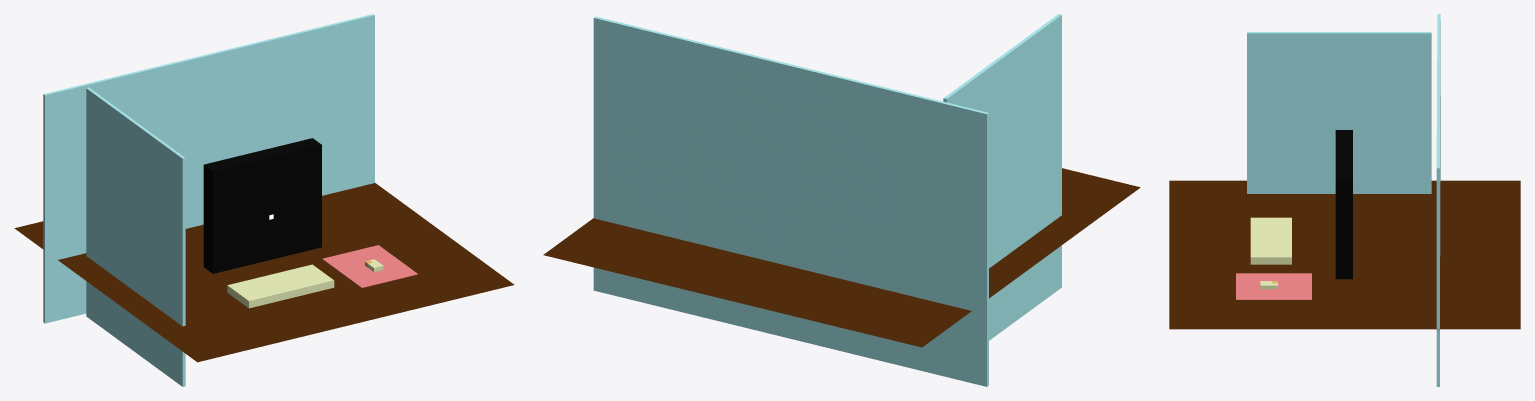
The model's file is desk_scene_8.glb.
3 renders of one model, left to right at view 1: azimuth 30°, elevation 25°; view 2: azimuth 150°, elevation 25°; view 3: azimuth 270°, elevation 25°, orthographic. The views are drawn at different scales.
Parts seen in each view (by area): view 1: Cubical Wall side 2, Desktop, Cubical Wall side, Computer, Keyboard, MousePad; view 2: Cubical Wall side 2, Desktop, Cubical Wall side; view 3: Desktop, Cubical Wall side, Computer, Keyboard, MousePad, Cubical Wall side 2.
Boxes of the visible parts, x1,y1,x2,y2 form: Cubical Wall side 2: (43, 14, 374, 323); Desktop: (14, 183, 514, 362); Cubical Wall side: (86, 87, 185, 386); Computer: (203, 138, 321, 273); Keyboard: (227, 264, 334, 308); MousePad: (322, 245, 417, 287); Cubical Wall side 2: (593, 16, 988, 386); Desktop: (543, 168, 1140, 347); Cubical Wall side: (943, 14, 1061, 340); Desktop: (1169, 180, 1520, 329); Cubical Wall side: (1247, 32, 1431, 193); Computer: (1335, 130, 1352, 279); Keyboard: (1250, 217, 1291, 264); MousePad: (1236, 273, 1311, 299); Cubical Wall side 2: (1436, 14, 1440, 386).
Size of the model in its own units: 7.75 by 5.12 by 7.45.
